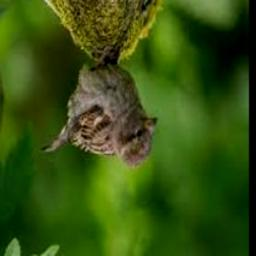Sparrow: (42, 47, 159, 171)
